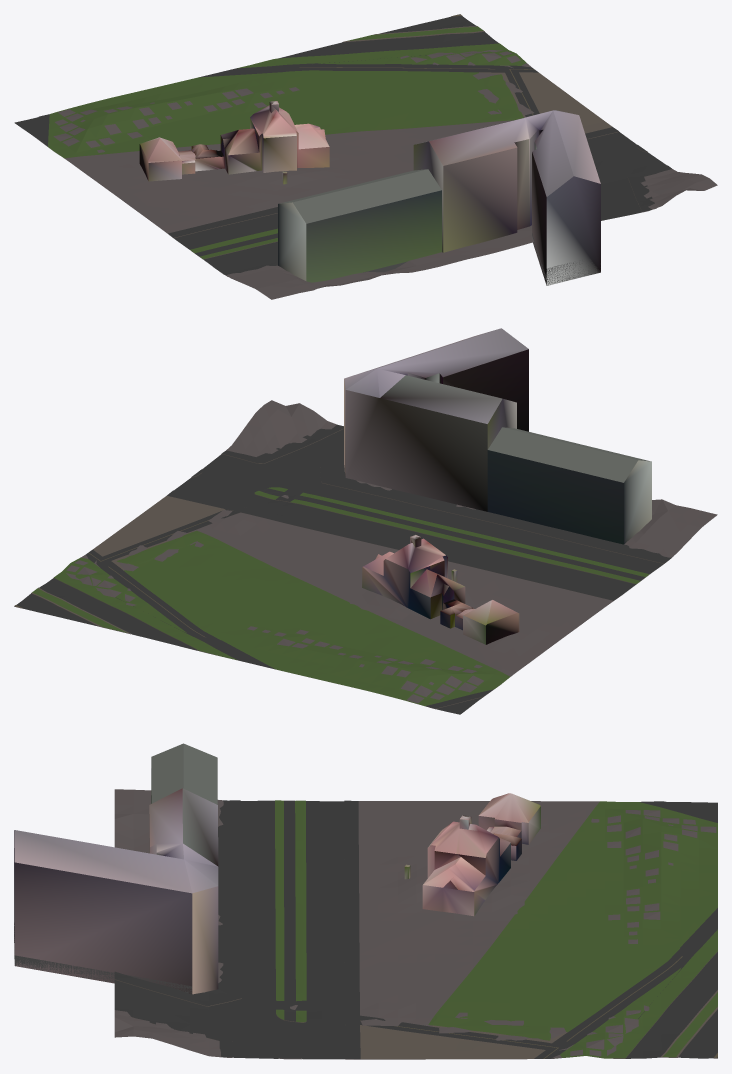
3 views of the same model, one above another, from view 1: azimuth 30°, elevation 25°; view 2: azimuth 150°, elevation 25°; view 3: azimuth 270°, elevation 25° (orthographic). The views are drawn at different scales.
Parts seen in each view (by area): view 1: c_p02_m18; view 2: c_p02_m18; view 3: c_p02_m18.
Part boxes in pixels (left/top/right/bottom): c_p02_m18: left=14, top=14, right=717, bottom=299; c_p02_m18: left=14, top=328, right=717, bottom=714; c_p02_m18: left=14, top=743, right=717, bottom=1059.
Size of the model in its own units: 128 by 29.49 by 149.
